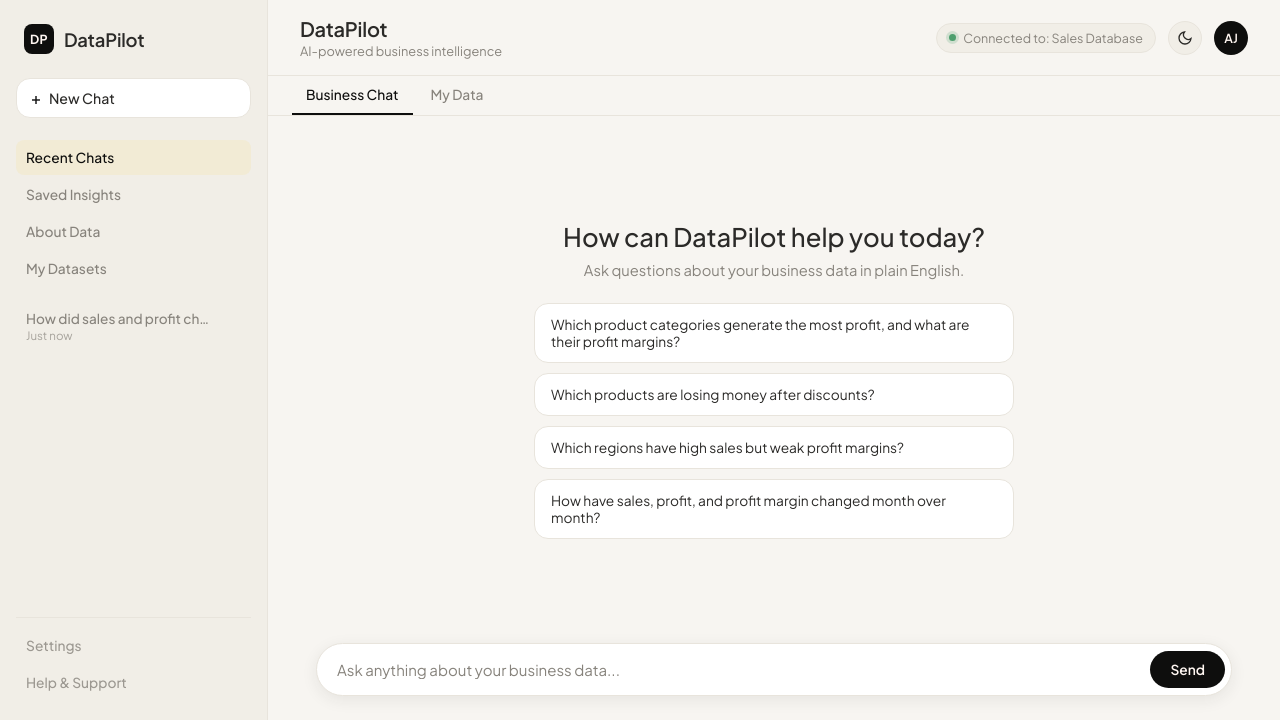
Scenario: clarification responses › shows a clarification question without SQL actions
Type "How is the business doing?" into the field with placeholder "Ask anything about your business data..." at (739, 670), box [337, 650, 1140, 689]
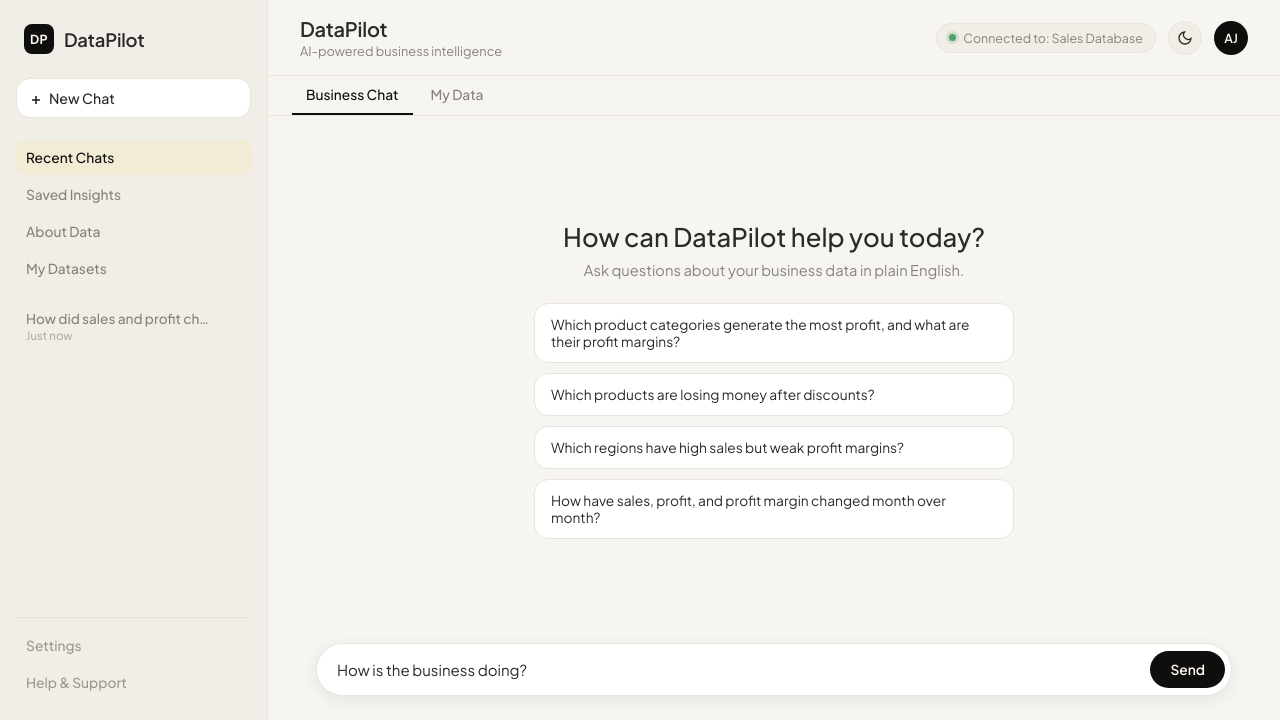
Click the button "Send" at (1188, 670), box [1150, 651, 1225, 688]
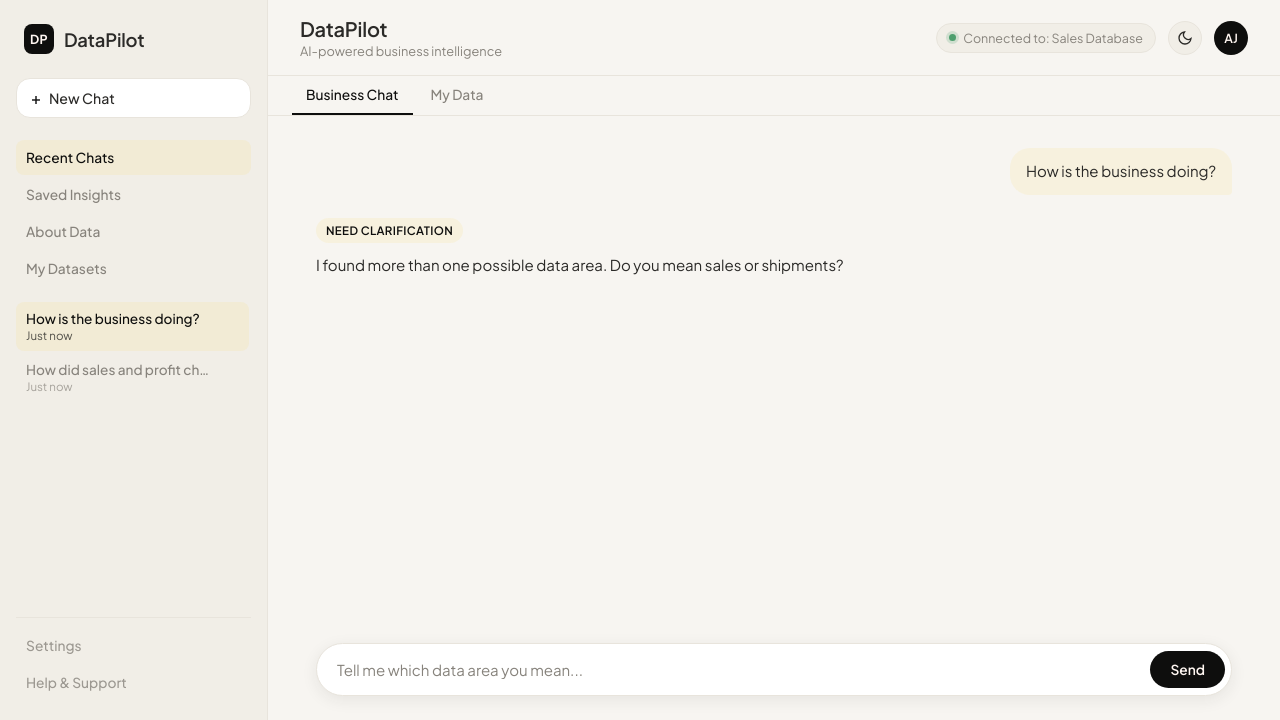
Check: the text "I found more than one possible data area. Do you mean sales or shipments?" is shown, box [316, 255, 844, 274]
Check: the text "Need clarification" is shown, box [316, 218, 463, 243]
Check: the field with placeholder "Tell me which data area you mean..." is shown, box [337, 650, 1140, 689]
